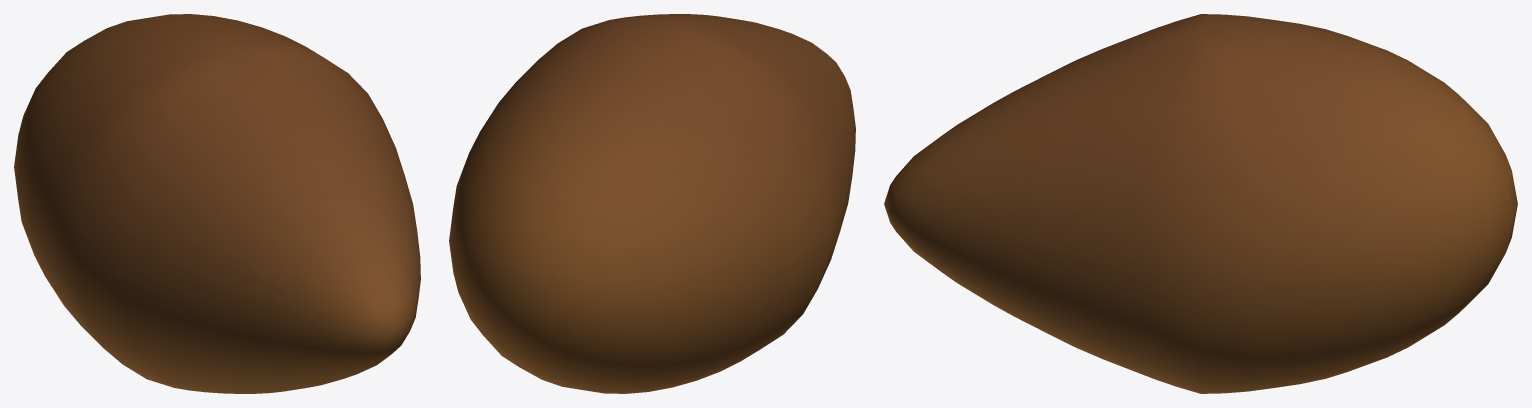
The model's file is SD_M01_Seed.fbx.
3 views of the same model, side by side, from view 1: azimuth 30°, elevation 25°; view 2: azimuth 150°, elevation 25°; view 3: azimuth 270°, elevation 25° (orthographic). The views are drawn at different scales.
Parts seen in each view (by area): view 1: SD_M01_Seed; view 2: SD_M01_Seed; view 3: SD_M01_Seed.
Boxes of the visible parts, box(x1,y1,x2,y2) form: SD_M01_Seed: box(14, 14, 420, 393); SD_M01_Seed: box(449, 14, 855, 393); SD_M01_Seed: box(884, 14, 1517, 393).
Size of the model in its own units: 9 by 9 by 15.
1 material, 1 textured.
